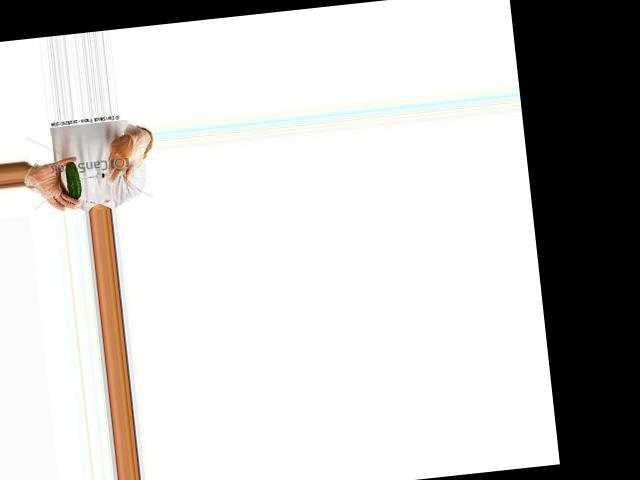cucumber: (63, 161, 81, 201)
